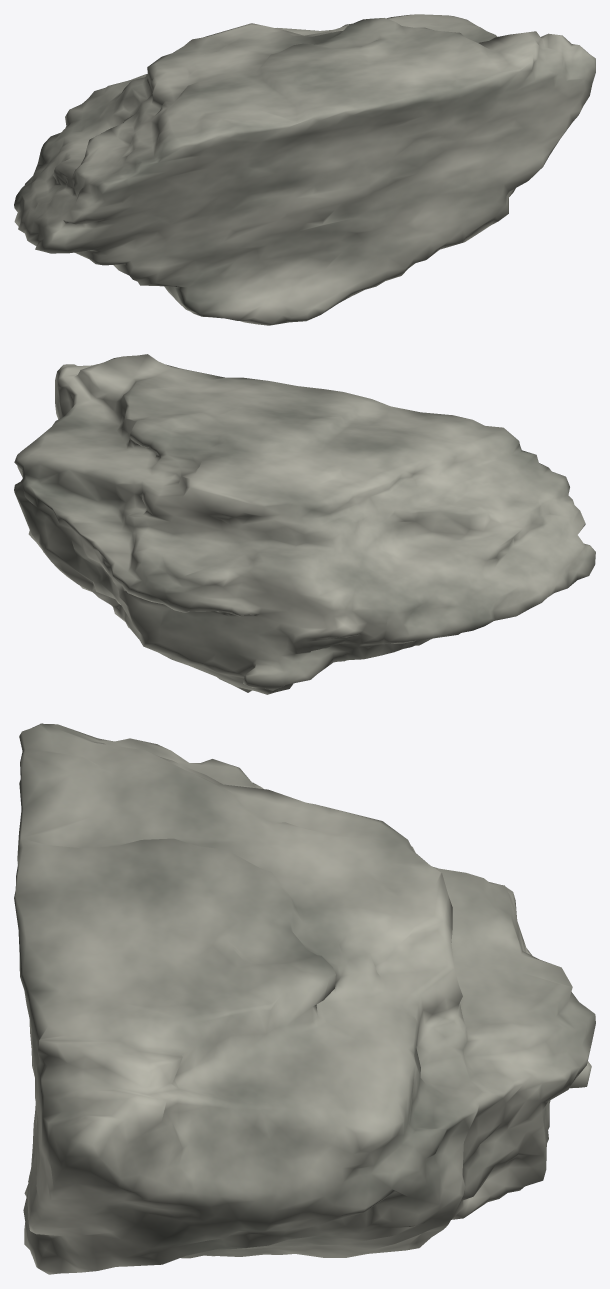
File: incident-rock-1.glb
3 views of the same model, one above another, from view 1: azimuth 30°, elevation 25°; view 2: azimuth 150°, elevation 25°; view 3: azimuth 270°, elevation 25° (orthographic). The views are drawn at different scales.
Visible parts, largest first — view 1: rock-1; view 2: rock-1; view 3: rock-1.
Boxes of the visible parts, box(x1,y1,x2,y2) form: rock-1: box(14, 14, 595, 325); rock-1: box(14, 354, 595, 694); rock-1: box(14, 723, 595, 1274).
Bounding box in the file's own units: 1.94 × 0.7349 × 1.05.
Materials: 1 (1 with a texture image).
